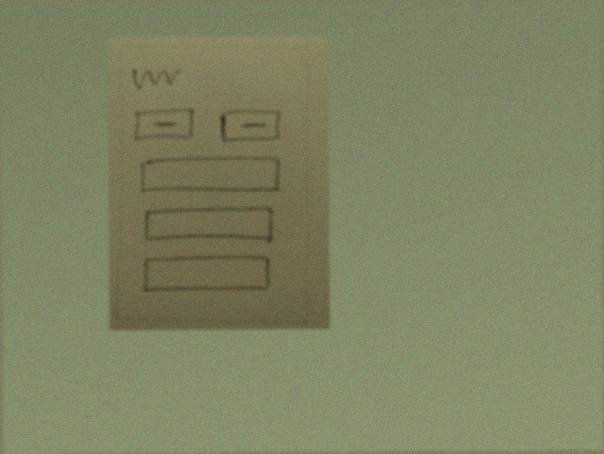button: (215, 105, 285, 146), (130, 108, 197, 145)
text: (129, 64, 183, 91)
text_input: (136, 155, 285, 198), (140, 206, 278, 247), (141, 254, 273, 296)
